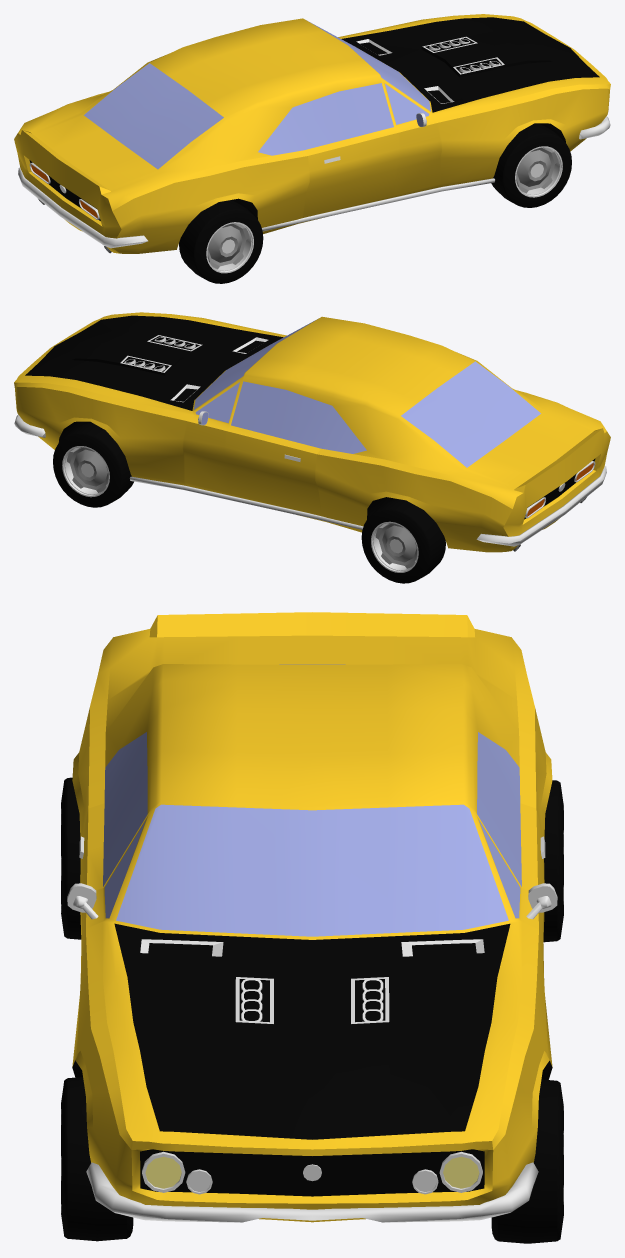
File: car1.fbx
The picture shows the model from 3 angles, top to bottom: view 1: azimuth 30°, elevation 25°; view 2: azimuth 150°, elevation 25°; view 3: azimuth 270°, elevation 25°; orthographic projection. The views are drawn at different scales.
Visible parts, largest first — view 1: Cube, Cylinder.002, Cylinder.001; view 2: Cube, Cylinder.003, Cylinder; view 3: Cube, Cylinder, Cylinder.001, Cylinder.003, Cylinder.002.
Part boxes in pixels (x1,y1,x2,y2): Cube: [14, 14, 610, 253]; Cylinder.002: [179, 200, 263, 283]; Cylinder.001: [491, 123, 571, 207]; Cube: [14, 312, 610, 552]; Cylinder.003: [361, 499, 445, 583]; Cylinder: [53, 422, 133, 507]; Cube: [67, 612, 557, 1222]; Cylinder: [491, 1079, 563, 1243]; Cylinder.001: [61, 1077, 133, 1241]; Cylinder.003: [543, 780, 563, 942]; Cylinder.002: [61, 777, 81, 939].
Bounding box in the file's own units: 346 × 99.77 × 146.
